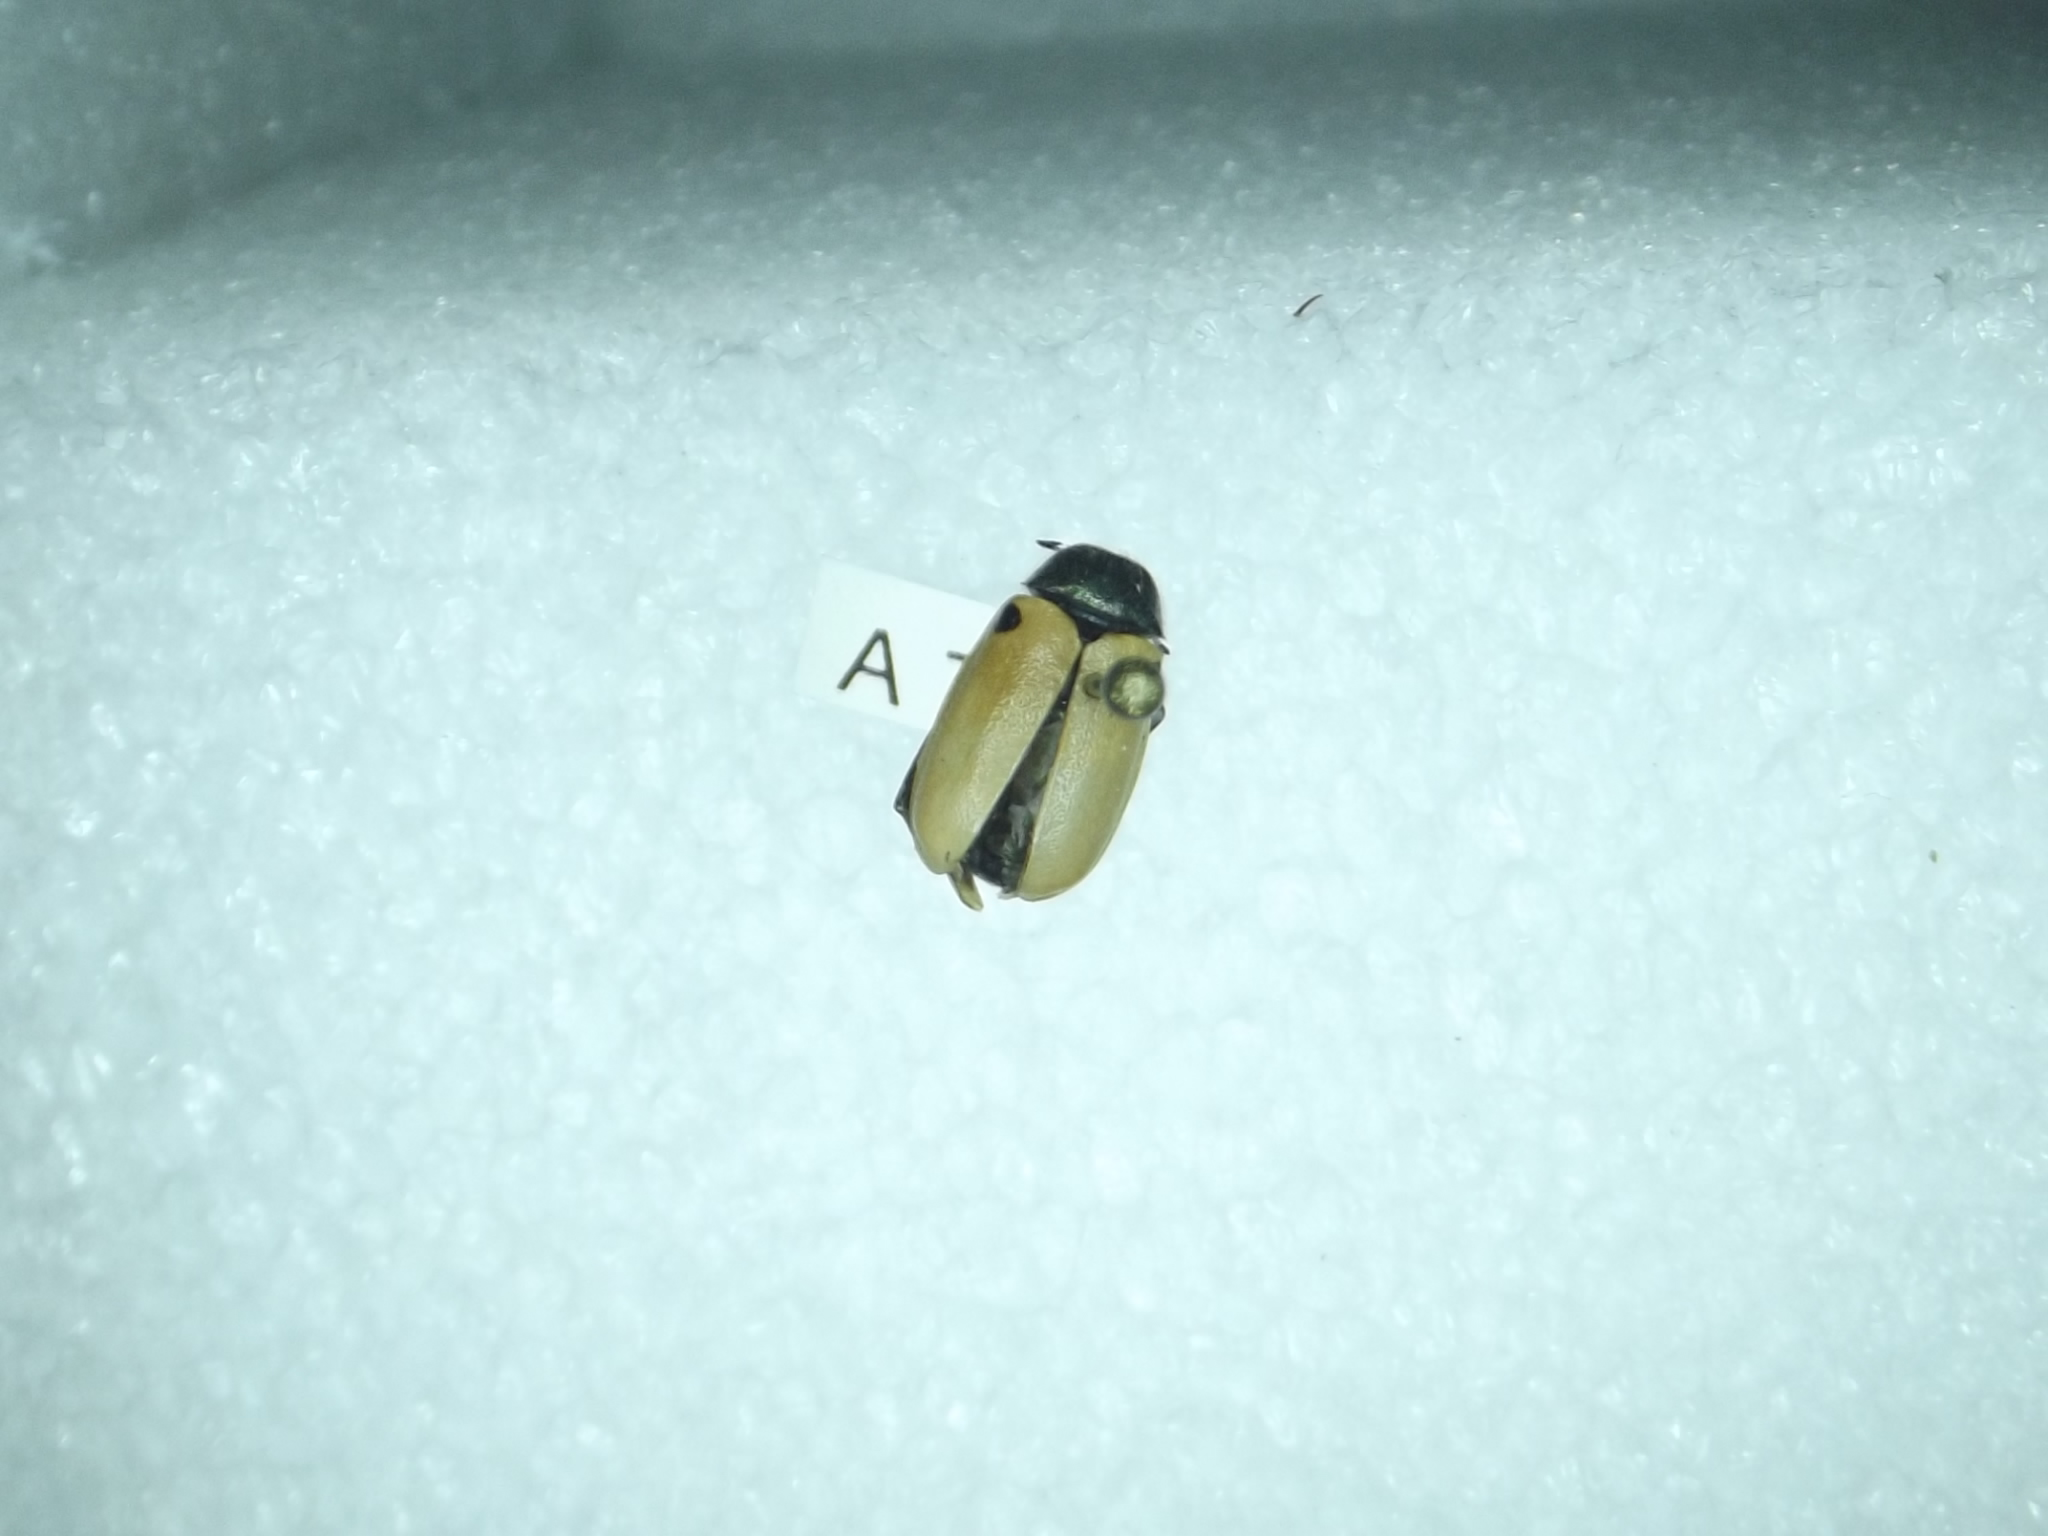Labidostomis_propinqua: (892, 532, 1184, 913)
